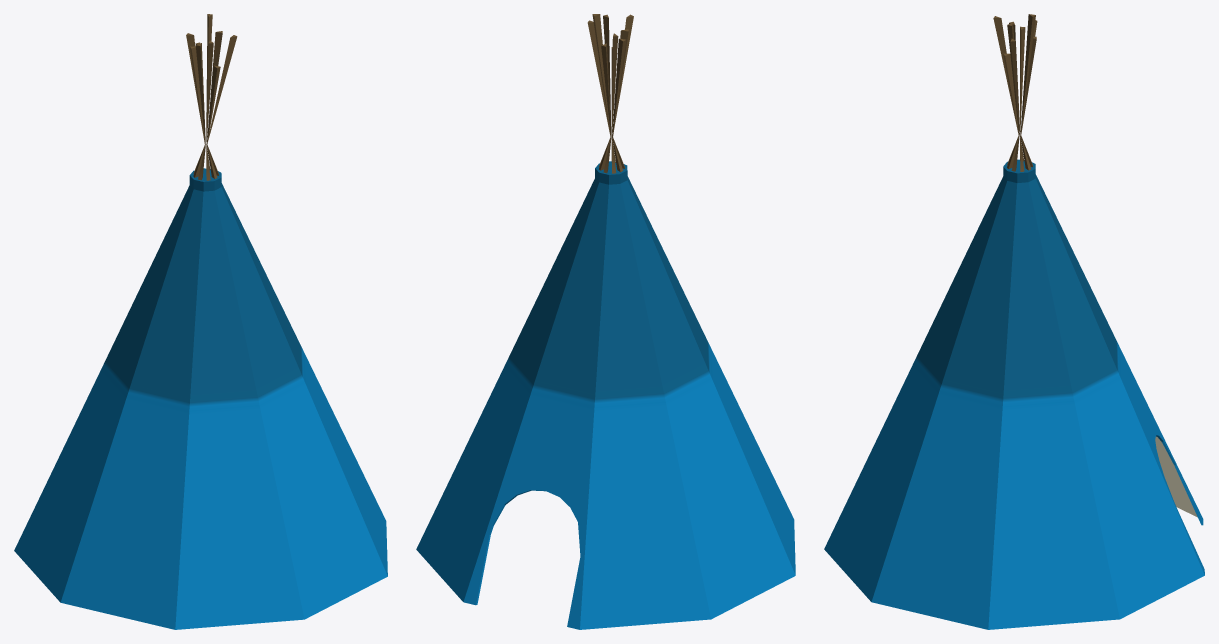
Rendered from model_polytope_teepee03.fbx.
3 renders of one model, left to right at view 1: azimuth 30°, elevation 25°; view 2: azimuth 150°, elevation 25°; view 3: azimuth 270°, elevation 25°, orthographic.
Visible parts, largest first — view 1: model_polytope_teepee03; view 2: model_polytope_teepee03; view 3: model_polytope_teepee03.
Part boxes in pixels (x1,y1,x2,y2): model_polytope_teepee03: (14,14,387,629); model_polytope_teepee03: (416,14,795,629); model_polytope_teepee03: (824,14,1204,629).
Size of the model in its own units: 551 by 846 by 543.
